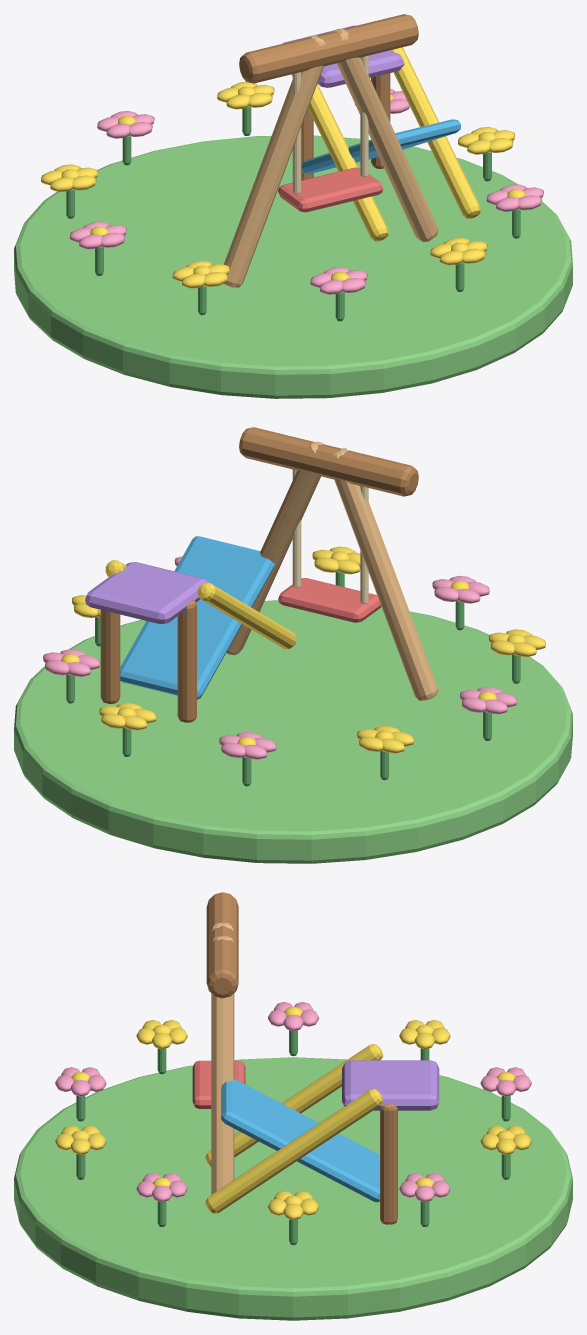
File: region_playground.glb
The picture shows the model from 3 angles, top to bottom: view 1: azimuth 30°, elevation 25°; view 2: azimuth 150°, elevation 25°; view 3: azimuth 270°, elevation 25°; orthographic projection.
Visible parts, largest first — view 1: round grassy plot, swing frame, swing top, swing frame.001, slide side.001, red swing seat, slide side, rounded blue slide, slide platform, swing rope, slide support.001, slide support (+1 smaller); view 2: round grassy plot, rounded blue slide, swing frame, swing top, slide platform, swing frame.001, red swing seat, slide support, slide side, slide support.001, swing rope.001; view 3: round grassy plot, rounded blue slide, slide platform, swing frame.001, slide side.001, swing top, slide support.001, slide side, red swing seat.
Part boxes in pixels (bbox=[...]): round grassy plot: bbox=[14, 135, 572, 398]; swing frame: bbox=[224, 35, 326, 287]; swing top: bbox=[239, 14, 418, 83]; swing frame.001: bbox=[334, 28, 438, 241]; slide side.001: bbox=[391, 47, 480, 218]; red swing seat: bbox=[278, 167, 383, 212]; slide side: bbox=[291, 74, 388, 241]; rounded blue slide: bbox=[301, 119, 460, 173]; slide platform: bbox=[282, 25, 404, 87]; swing rope: bbox=[292, 72, 301, 193]; slide support.001: bbox=[371, 73, 390, 168]; slide support: bbox=[301, 109, 313, 180]; round grassy plot: bbox=[14, 600, 572, 863]; rounded blue slide: bbox=[120, 536, 274, 699]; swing frame: bbox=[331, 448, 438, 700]; swing top: bbox=[239, 427, 418, 496]; slide platform: bbox=[85, 562, 209, 624]; swing frame.001: bbox=[226, 441, 323, 655]; red swing seat: bbox=[278, 578, 381, 622]; slide support: bbox=[177, 600, 196, 722]; slide side: bbox=[197, 582, 296, 649]; slide support.001: bbox=[100, 610, 120, 703]; swing rope.001: bbox=[292, 469, 301, 587]; round grassy plot: bbox=[14, 1057, 572, 1320]; rounded blue slide: bbox=[221, 1079, 379, 1202]; slide platform: bbox=[342, 1060, 439, 1110]; swing frame.001: bbox=[211, 936, 234, 1194]; slide side.001: bbox=[205, 1088, 383, 1213]; swing top: bbox=[206, 892, 238, 998]; slide support.001: bbox=[380, 1104, 397, 1224]; slide side: bbox=[205, 1044, 383, 1166]; red swing seat: bbox=[192, 1060, 245, 1108].
Bounding box in the file's own units: 3.16 × 1.71 × 3.16.
